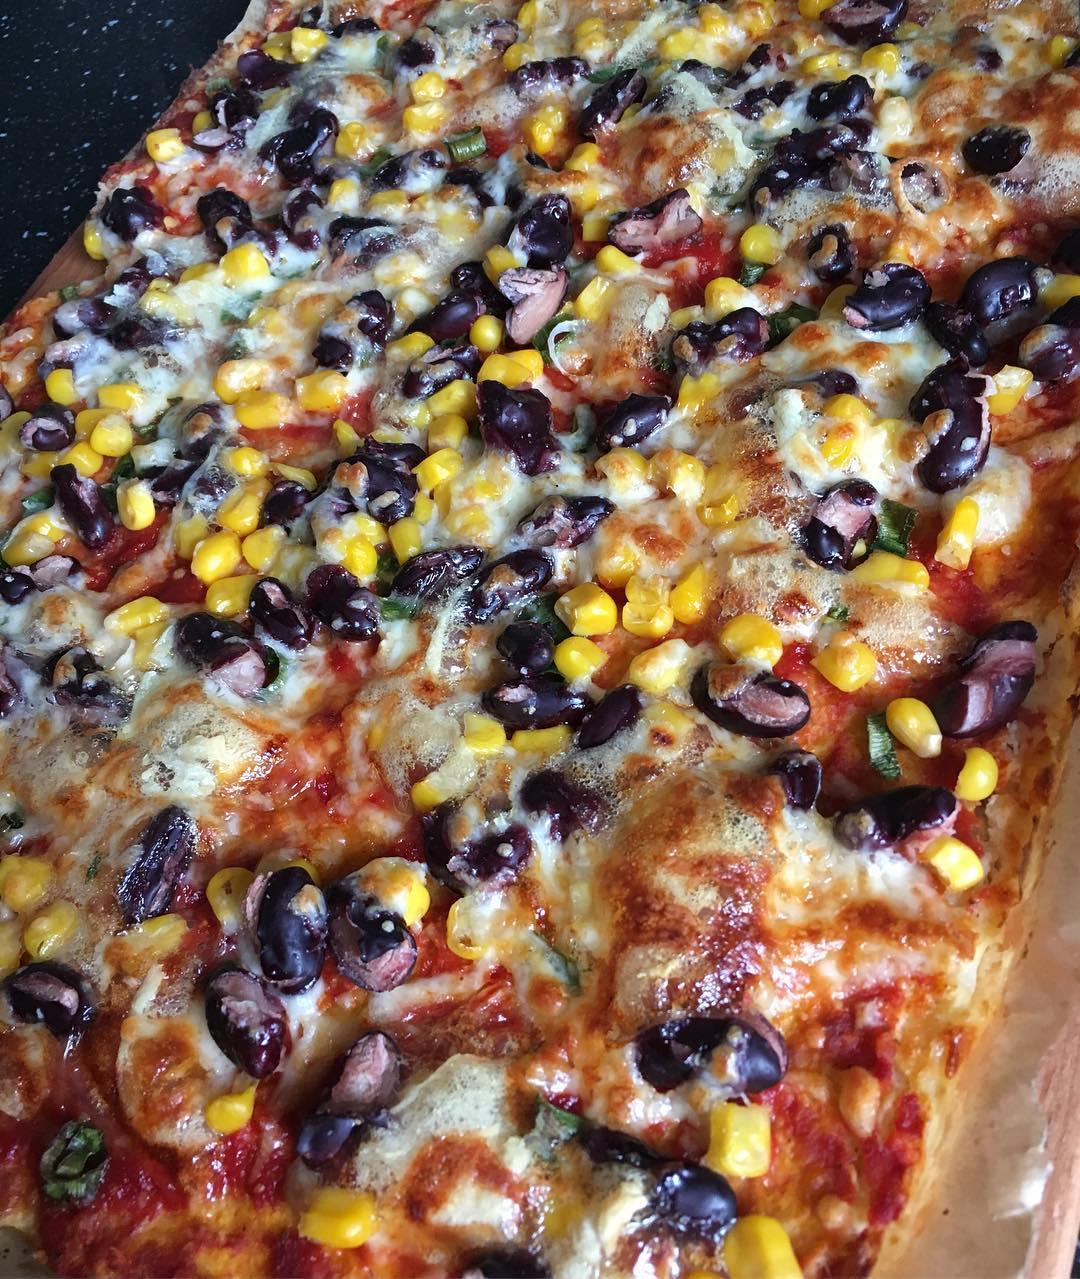Corn: (556, 546, 787, 683), (494, 0, 832, 73), (170, 485, 289, 618), (0, 854, 87, 985), (44, 368, 141, 482), (214, 358, 348, 425), (703, 1094, 786, 1184), (418, 389, 480, 493), (711, 1212, 807, 1279), (301, 1180, 379, 1250), (401, 74, 448, 137)
Pizza: (0, 0, 1080, 1279)
